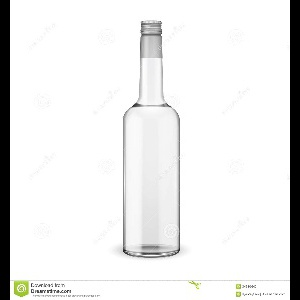emptybottle: (121, 21, 181, 258)
